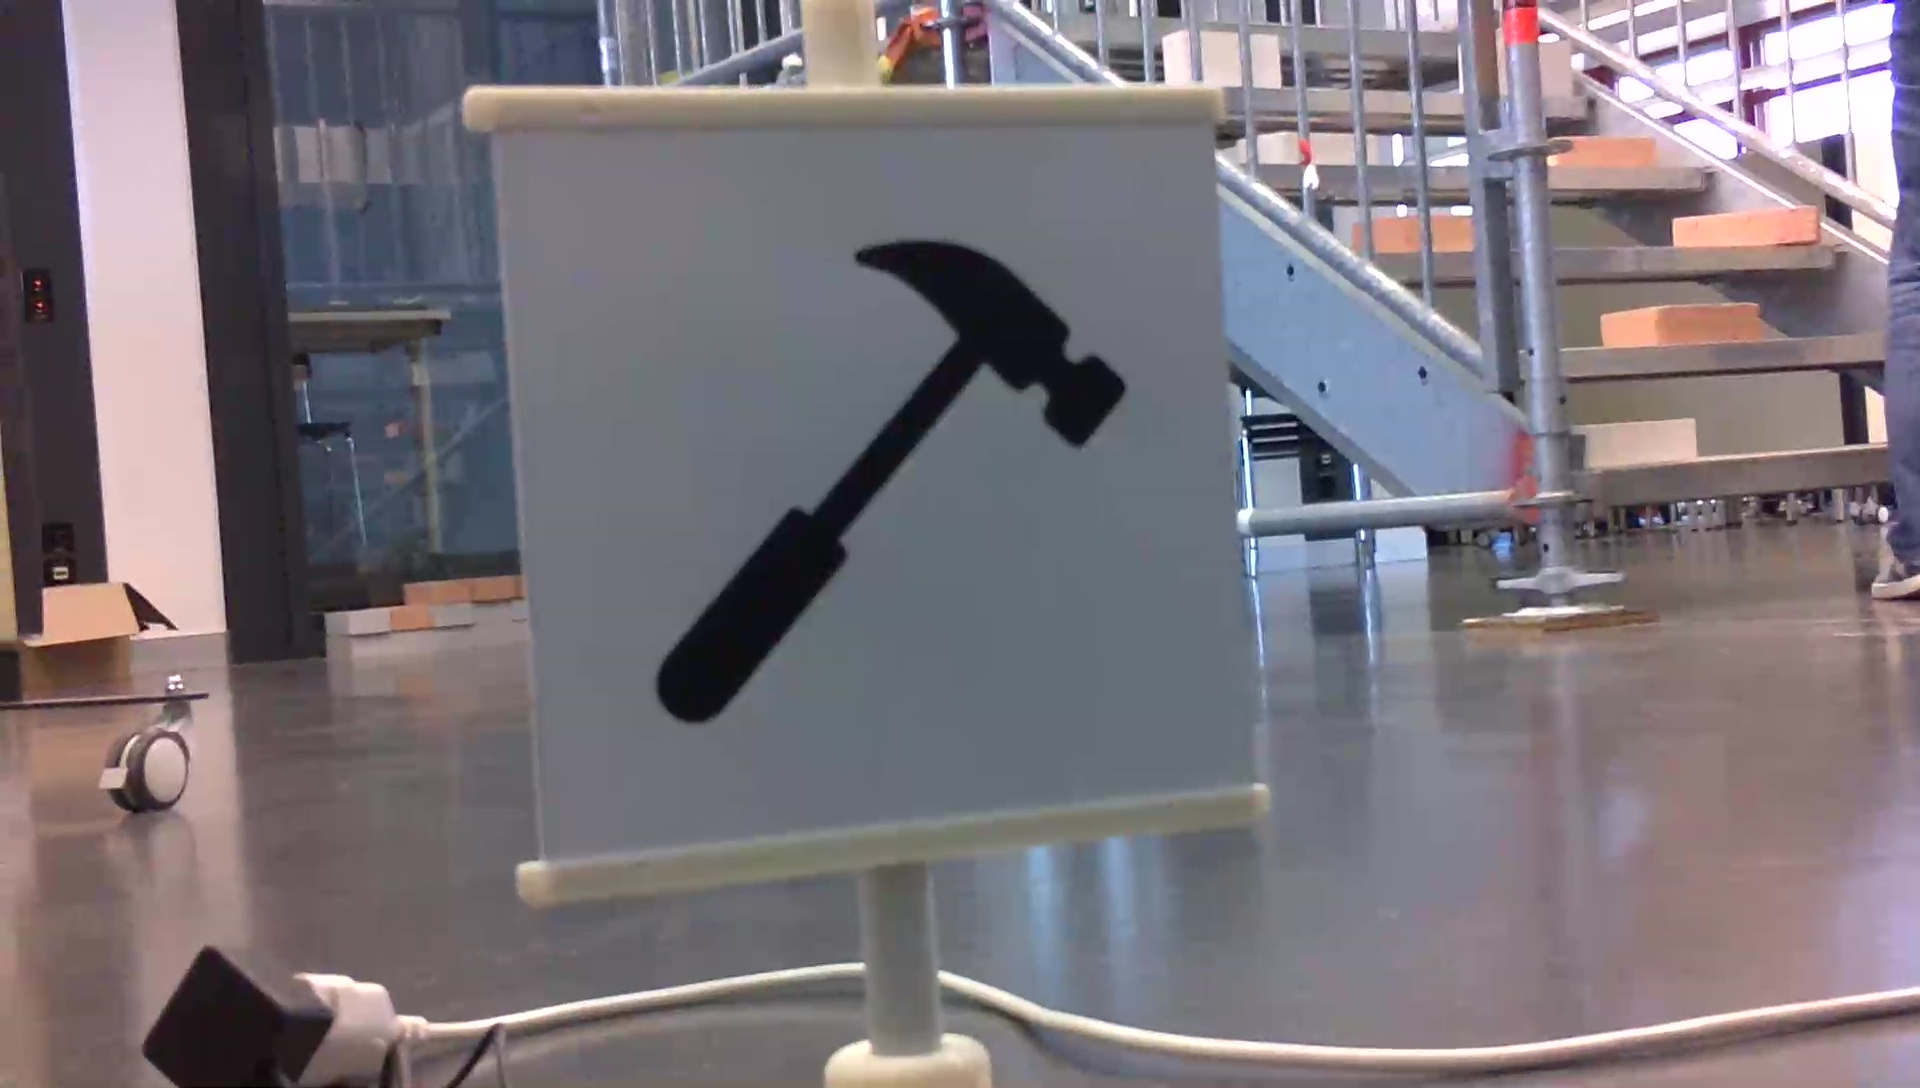brick: (1602, 302, 1759, 349), (1672, 206, 1820, 243), (1582, 419, 1692, 466), (1552, 137, 1654, 170), (1540, 38, 1571, 94)
hammer: (641, 232, 1135, 727)
